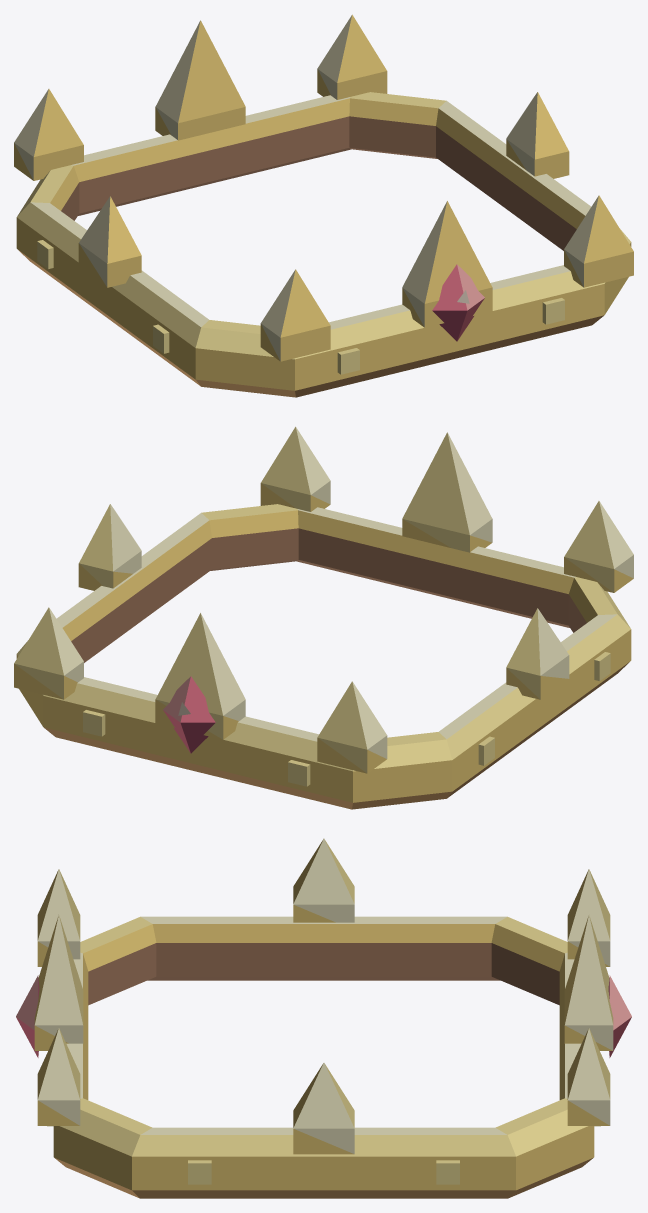
The model's file is crown.glb.
3 views of the same model, one above another, from view 1: azimuth 30°, elevation 25°; view 2: azimuth 150°, elevation 25°; view 3: azimuth 270°, elevation 25° (orthographic). The views are drawn at different scales.
Visible parts, largest first — view 1: head; view 2: head; view 3: head.
Part boxes in pixels (x1,y1,x2,y2): head: (14,14,633,397); head: (14,426,633,809); head: (16,838,631,1198).
Bounding box in the file's own units: 9.68 × 3.27 × 10.48.
